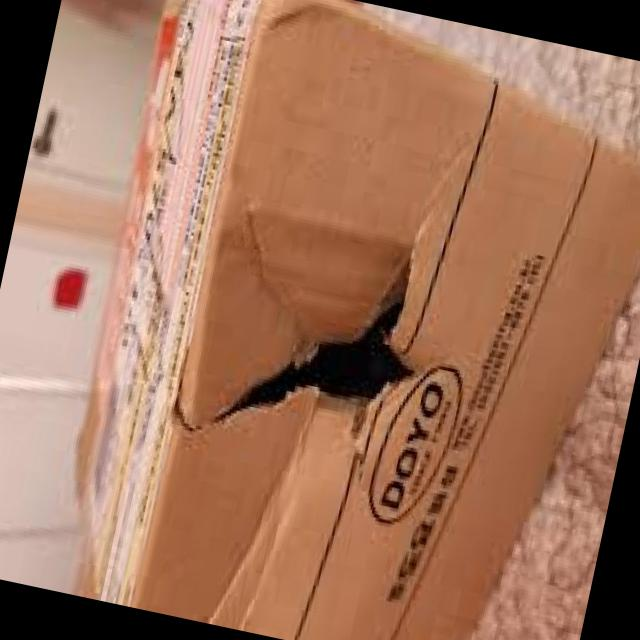box: (30, 1, 640, 438)
